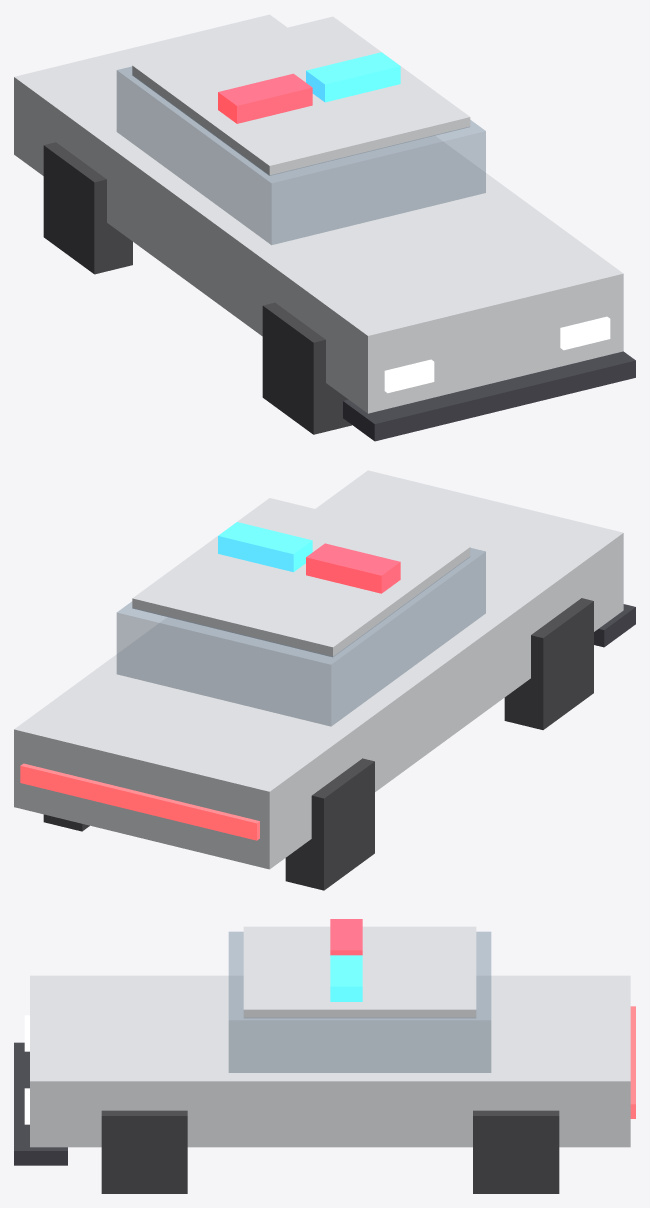
Rendered from police.glb.
3 renders of one model, top to bottom at view 1: azimuth 30°, elevation 25°; view 2: azimuth 150°, elevation 25°; view 3: azimuth 270°, elevation 25°, orthographic. The views are drawn at different scales.
Parts seen in each view (by area): view 1: chassis, cabin_glass, roof, splitter, wheel_RL, wheel_FL, siren_red, siren_blue, headlight_R, headlight_L; view 2: chassis, cabin_glass, roof, wheel_RL, wheel_FL, taillight_bar, siren_red, siren_blue, splitter; view 3: chassis, roof, cabin_glass, wheel_FR, wheel_RR, splitter, siren_blue, siren_red, taillight_bar.
Part boxes in pixels (x1,y1,x2,y2): chassis: (14,14,623,413); cabin_glass: (117,66,485,244); roof: (132,16,470,175); splitter: (343,351,635,441); wheel_RL: (43,142,132,274); wheel_FL: (262,302,351,434); siren_red: (218,73,312,123); siren_blue: (306,52,400,102); headlight_R: (560,316,610,350); headlight_L: (384,359,434,393); chassis: (14,470,623,869); cabin_glass: (117,548,485,726); roof: (132,498,470,657); wheel_RL: (285,758,374,890); wheel_FL: (504,598,593,729); taillight_bar: (20,763,259,840); siren_red: (306,543,400,593); siren_blue: (218,522,312,572); splitter: (594,604,635,647); chassis: (30,975,630,1147); roof: (243,926,476,1018); cabin_glass: (229,932,490,1072); wheel_FR: (101,1110,187,1193); wheel_RR: (473,1110,559,1193); splitter: (14,1042,67,1165); siren_blue: (330,955,362,1001); siren_red: (330,919,362,955); taillight_bar: (630,1006,635,1118).
Size of the model in its own units: 2.04 by 1.5 by 4.62.
